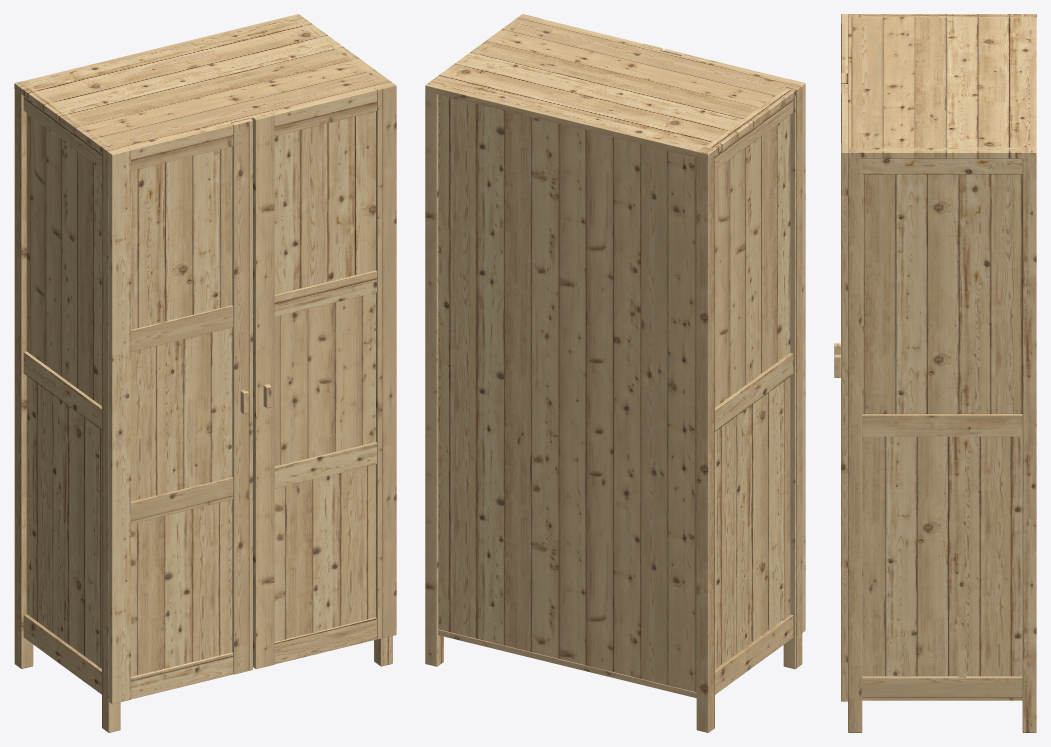
The model's file is armario.glb.
3 views of the same model, side by side, from view 1: azimuth 30°, elevation 25°; view 2: azimuth 150°, elevation 25°; view 3: azimuth 270°, elevation 25° (orthographic).
Parts seen in each view (by area): view 1: tampo_14, almofada_lateral_8, almofada_lateral_7, porta_esq_8, porta_dir_8, porta_esq_6, porta_dir_6, porta_dir_7, porta_esq_7, porta_esq_0, porta_dir_1, porta_dir_0 (+14 smaller); view 2: costas_16, tampo_14, almofada_lateral_7, almofada_lateral_8, pilar_1, pilar_3, pilar_0, porta_esq_0, travessa_lateral_4, travessa_lateral_6, travessa_lateral_5, fundo_15; view 3: almofada_lateral_12, almofada_lateral_13, tampo_14, pilar_3, pilar_2, travessa_lateral_9, porta_dir_0, travessa_lateral_11, travessa_lateral_10, travessa_lateral_5, porta_esq_3, porta_dir_3.
Part boxes in pixels (x1,y1,x2,y2): tampo_14: (14,14,392,157); almofada_lateral_8: (26,113,101,405); almofada_lateral_7: (26,376,101,668); porta_esq_8: (131,146,232,329); porta_dir_8: (274,111,375,294); porta_esq_6: (131,499,232,676); porta_dir_6: (274,464,375,641); porta_dir_7: (274,292,375,466); porta_esq_7: (131,327,232,501); porta_esq_0: (109,148,130,704); porta_dir_1: (252,112,274,668); porta_dir_0: (374,83,396,639); costas_16: (438,94,696,692); tampo_14: (425,16,802,160); almofada_lateral_7: (715,377,790,668); almofada_lateral_8: (715,115,790,407); pilar_1: (696,146,714,732); pilar_3: (425,80,443,666); pilar_0: (783,83,802,669); porta_esq_0: (784,78,805,632); travessa_lateral_4: (715,614,793,694); travessa_lateral_6: (715,352,793,431); travessa_lateral_5: (706,88,793,169); fundo_15: (438,629,696,697); almofada_lateral_12: (862,436,1022,676); almofada_lateral_13: (862,174,1022,413); tampo_14: (848,14,1036,158); pilar_3: (1022,147,1036,732); pilar_2: (848,147,862,732); travessa_lateral_9: (862,676,1022,700); porta_dir_0: (841,143,847,701); travessa_lateral_11: (862,414,1022,436); travessa_lateral_10: (862,147,1022,174); travessa_lateral_5: (862,15,1021,17); porta_esq_3: (841,23,847,73); porta_dir_3: (841,93,847,143).
Bounding box in the file's own units: 1.04 × 2.03 × 0.642.
Materials: 3 (1 with a texture image).
